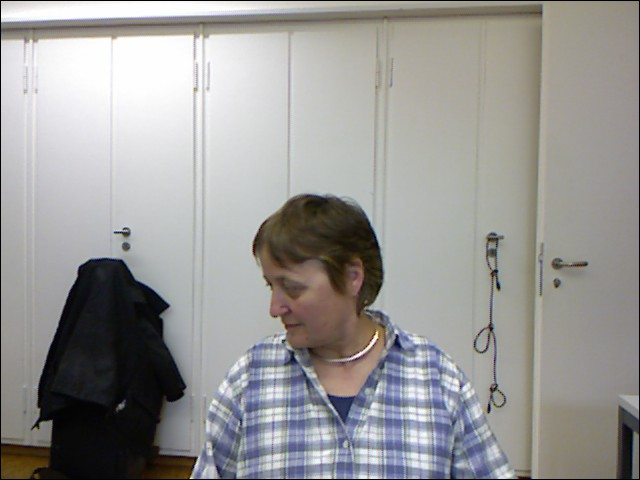deflection: (220, 203, 457, 463)
